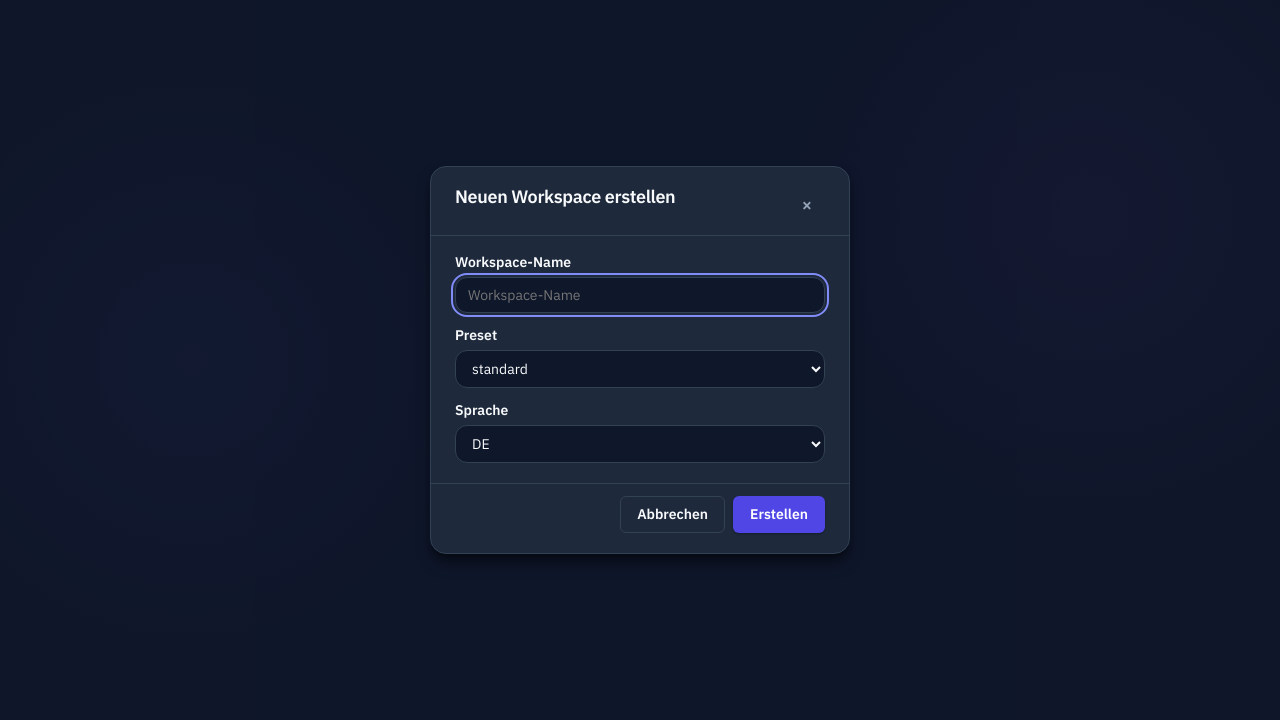
Test case: CreateWorkspaceModal — field-level validation error visibility (BUG-08) › marks the name input as invalid (border/icon/aria) when submitted empty
This screenshot has width=1280, height=720.
Click the button with test id "new-workspace-submit" at (779, 514), box [733,496,825,533]
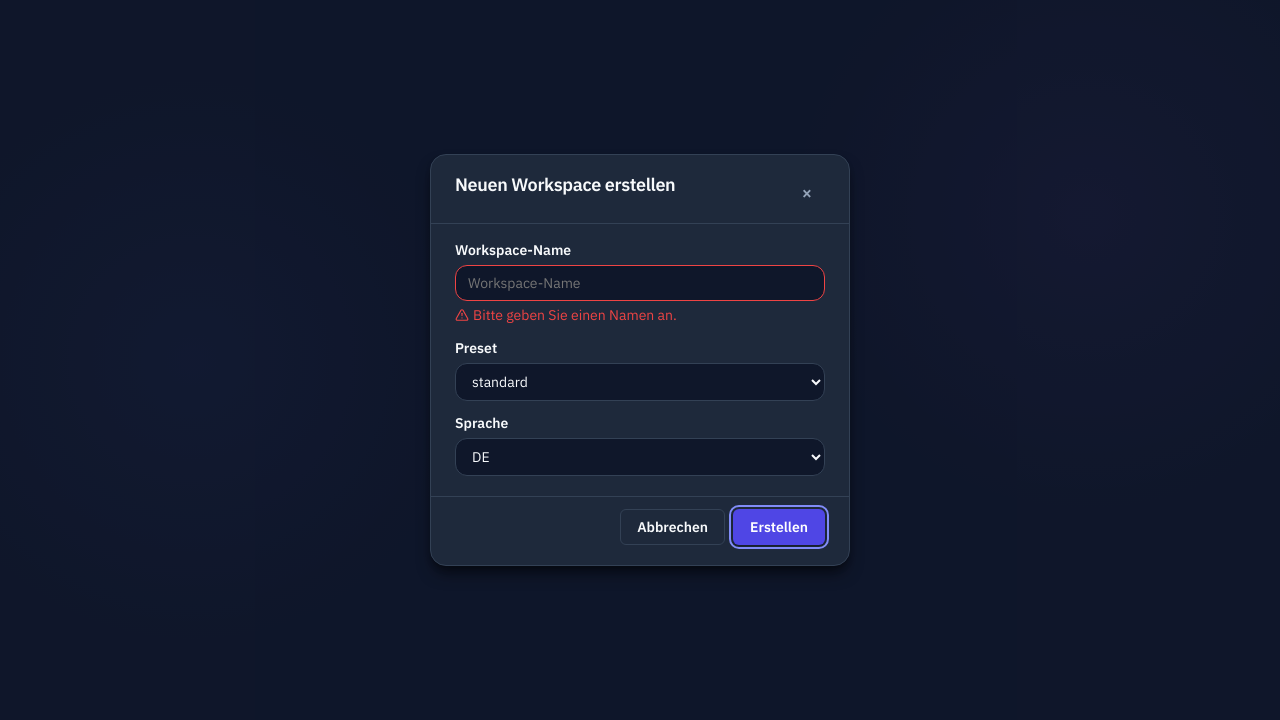
Now the icon is shown, box [455,308,469,322]
Now the message with test id "new-workspace-name-field-error" shows "Name", box [473,306,677,324]
